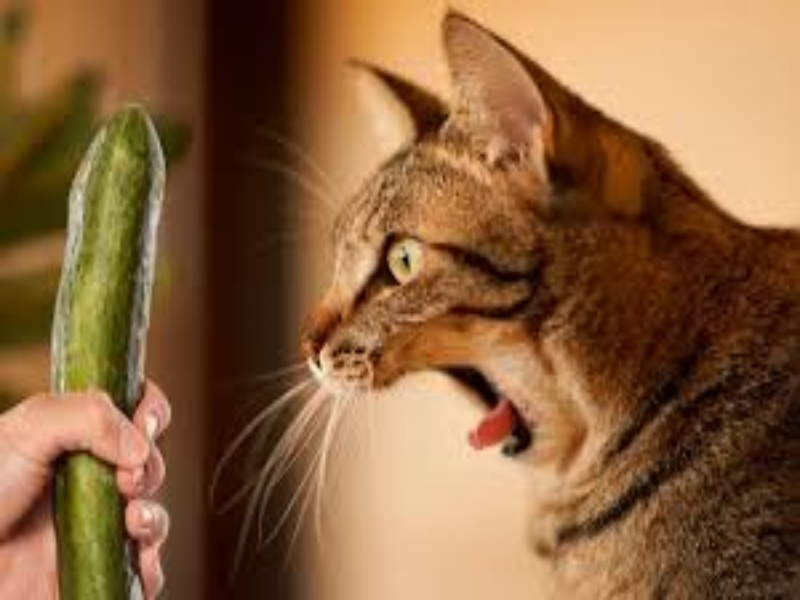cat: (283, 3, 797, 600)
